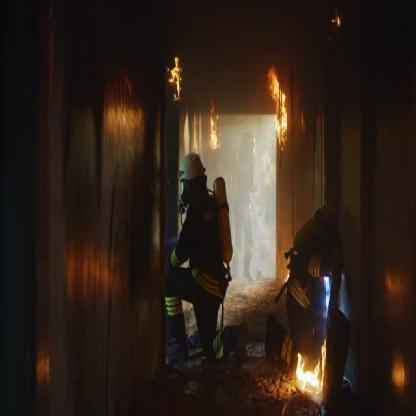fire: (287, 335, 326, 407), (267, 65, 292, 144), (166, 49, 184, 113), (208, 100, 220, 151)
